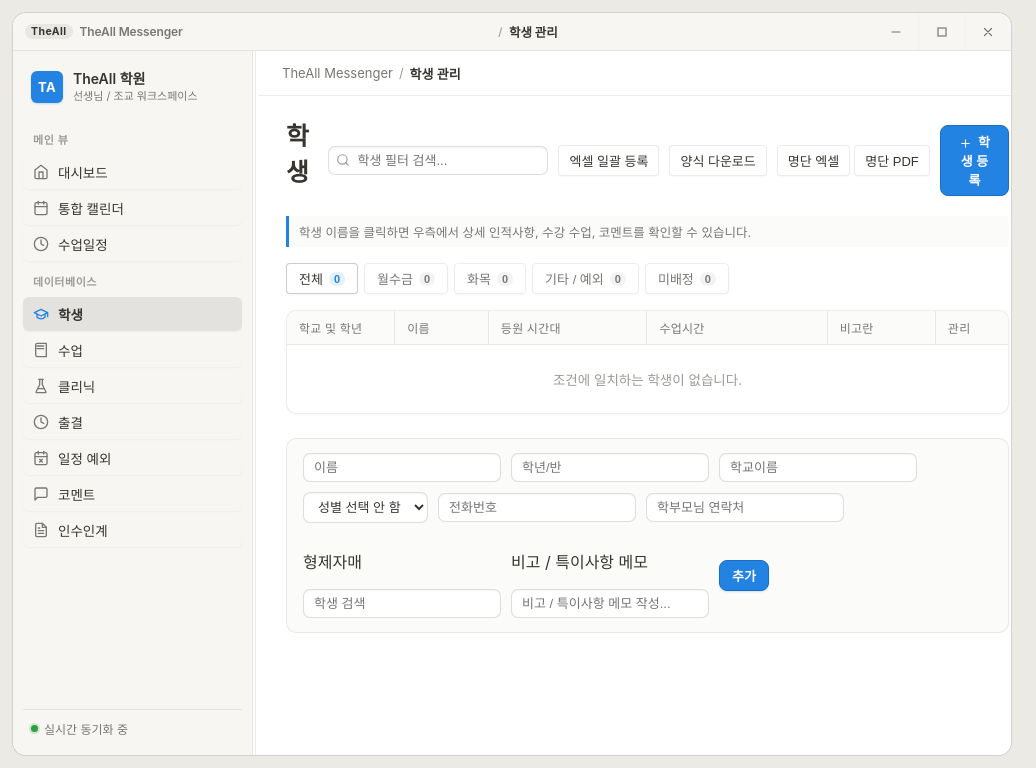
Test case: App › switches to the schedule (수업일정) tab
Step 1. Click the button "수업일정" → {"x": 132, "y": 244}, box [23, 227, 242, 261]
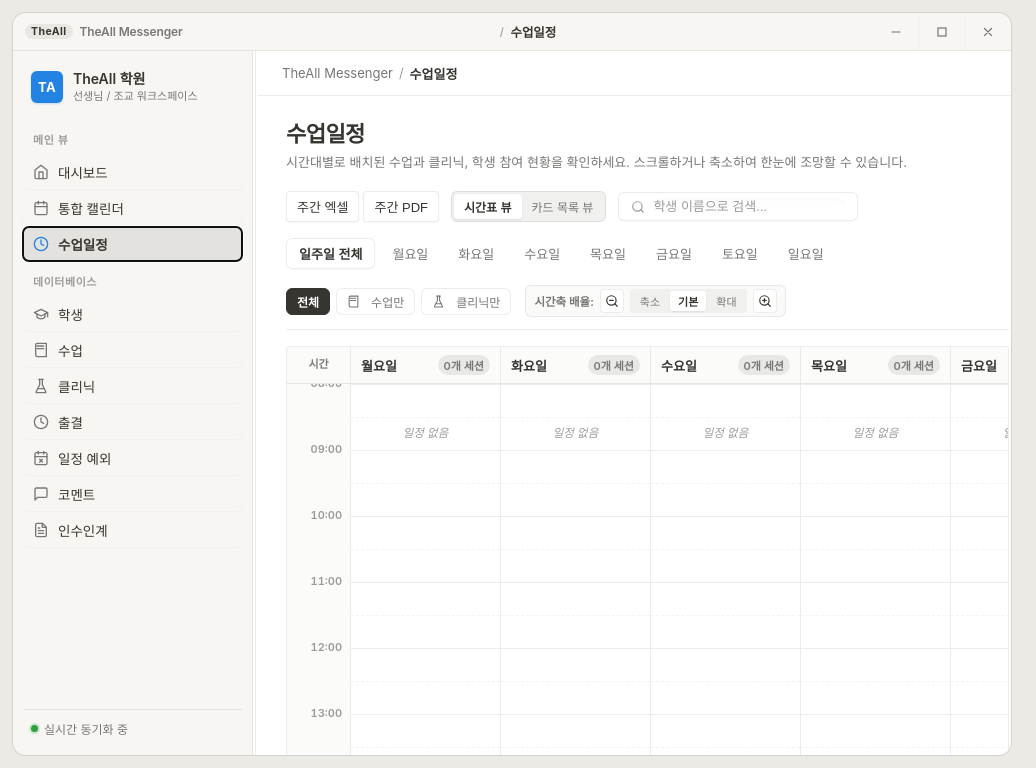
Expected: the heading "수업일정" is shown, [286, 121, 365, 147]
